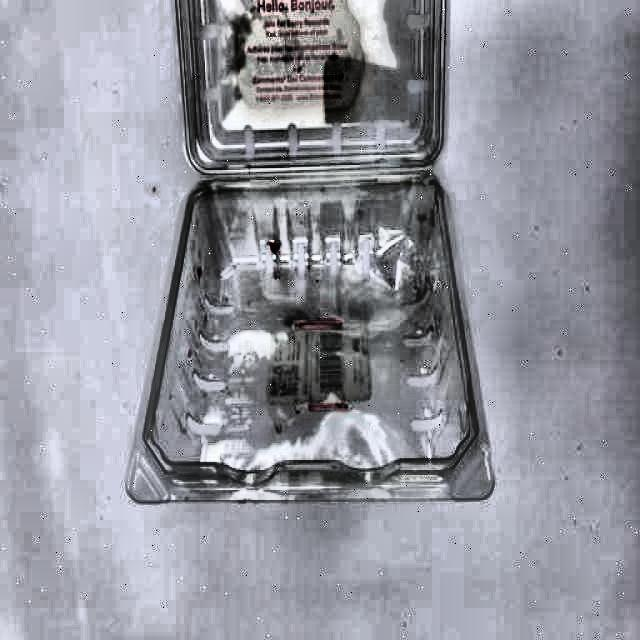plastic: (125, 0, 497, 507)
